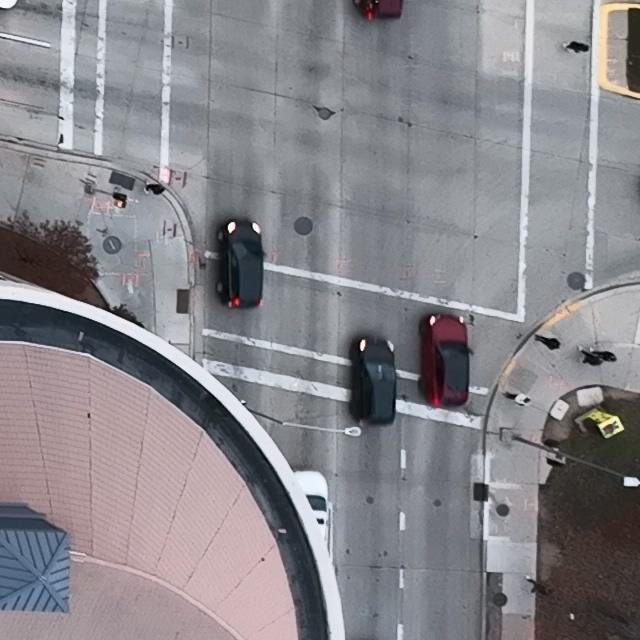car: (418, 312, 474, 410), (350, 334, 398, 424), (219, 217, 266, 308), (355, 0, 404, 19)
